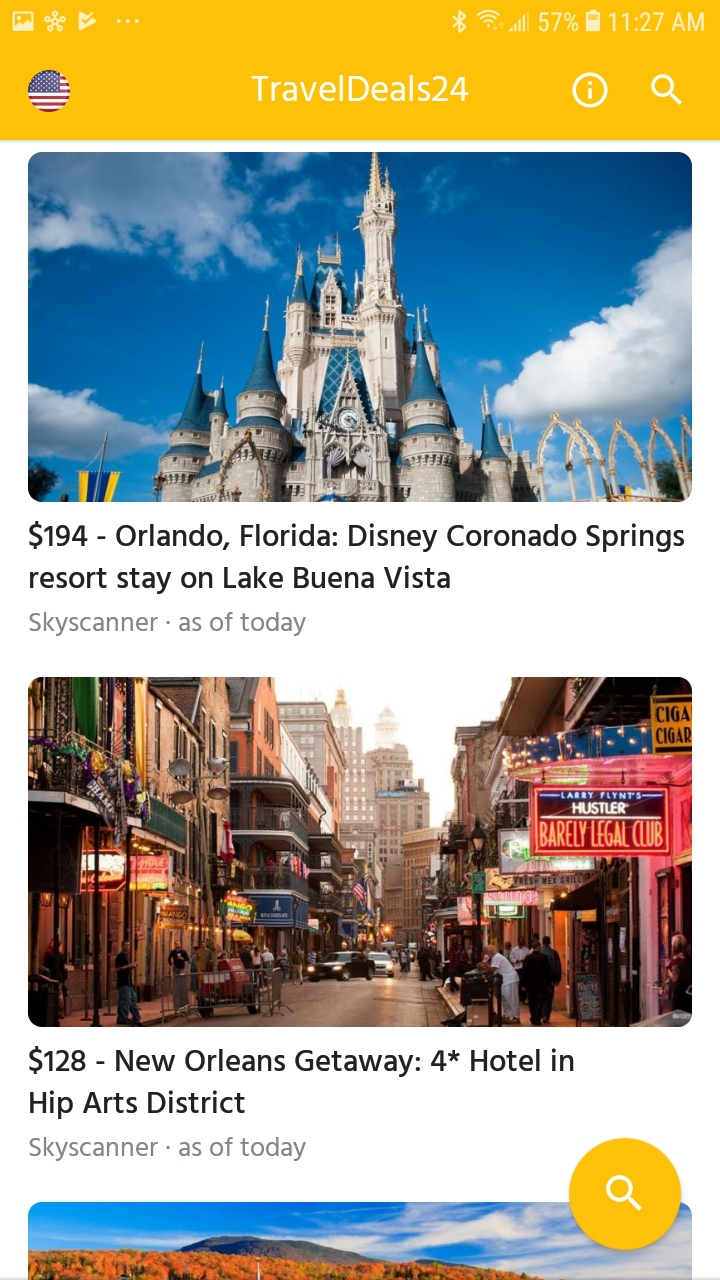Icon: (569, 1138, 681, 1250), (573, 73, 608, 109), (651, 75, 682, 106)
Image: (28, 152, 692, 503), (29, 677, 692, 1027), (29, 70, 71, 113)
Text: (29, 1202, 692, 1280), (29, 520, 685, 595), (29, 1045, 574, 1120), (30, 1137, 307, 1162), (30, 612, 307, 637), (252, 76, 468, 102)
UpperTaskBar: (1, 1, 720, 34)
